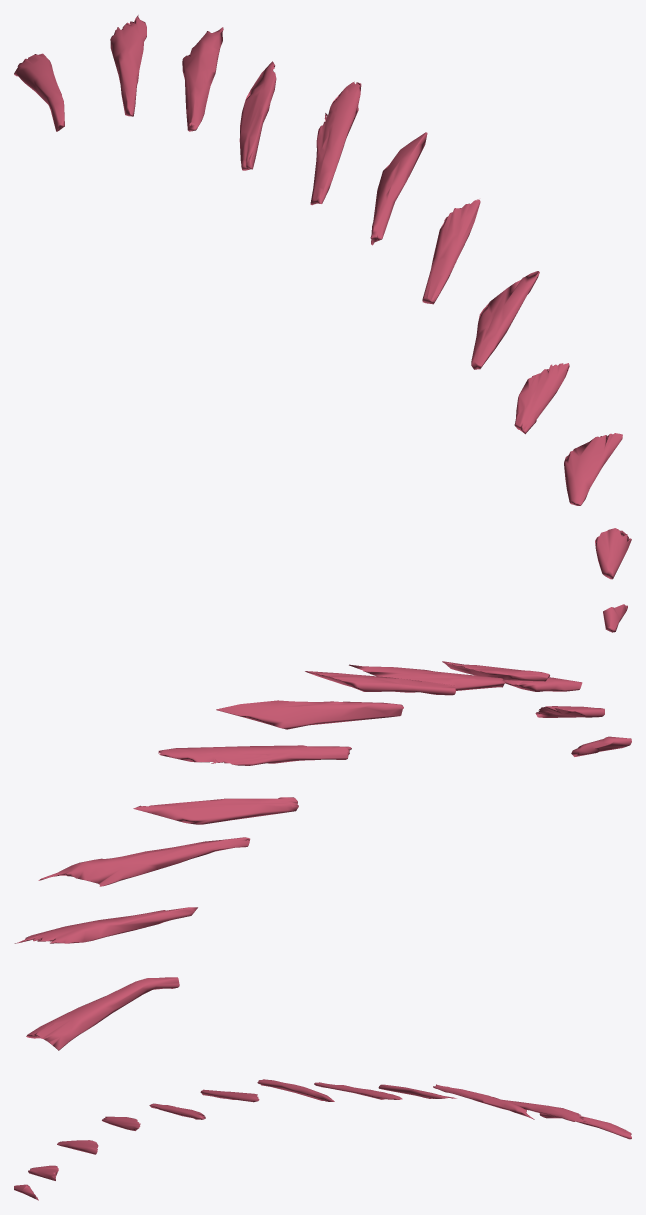
3 renders of one model, top to bottom at view 1: azimuth 30°, elevation 25°; view 2: azimuth 150°, elevation 25°; view 3: azimuth 270°, elevation 25°, orthographic. The views are drawn at different scales.
Visible parts, largest first — view 1: 左侧肋短提肌; view 2: 左侧肋短提肌; view 3: 左侧肋短提肌.
Part boxes in pixels (bbox=[...]): 左侧肋短提肌: bbox=[14, 15, 631, 632]; 左侧肋短提肌: bbox=[14, 661, 631, 1050]; 左侧肋短提肌: bbox=[14, 1079, 631, 1200].
Bounding box in the file's own units: 0.0747 × 0.1056 × 0.4761.
